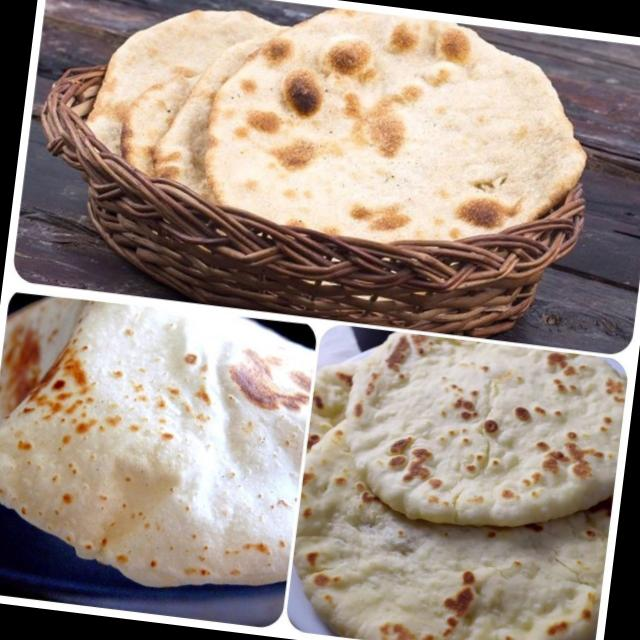roti: (84, 5, 590, 242), (297, 334, 624, 640), (0, 296, 312, 603)
